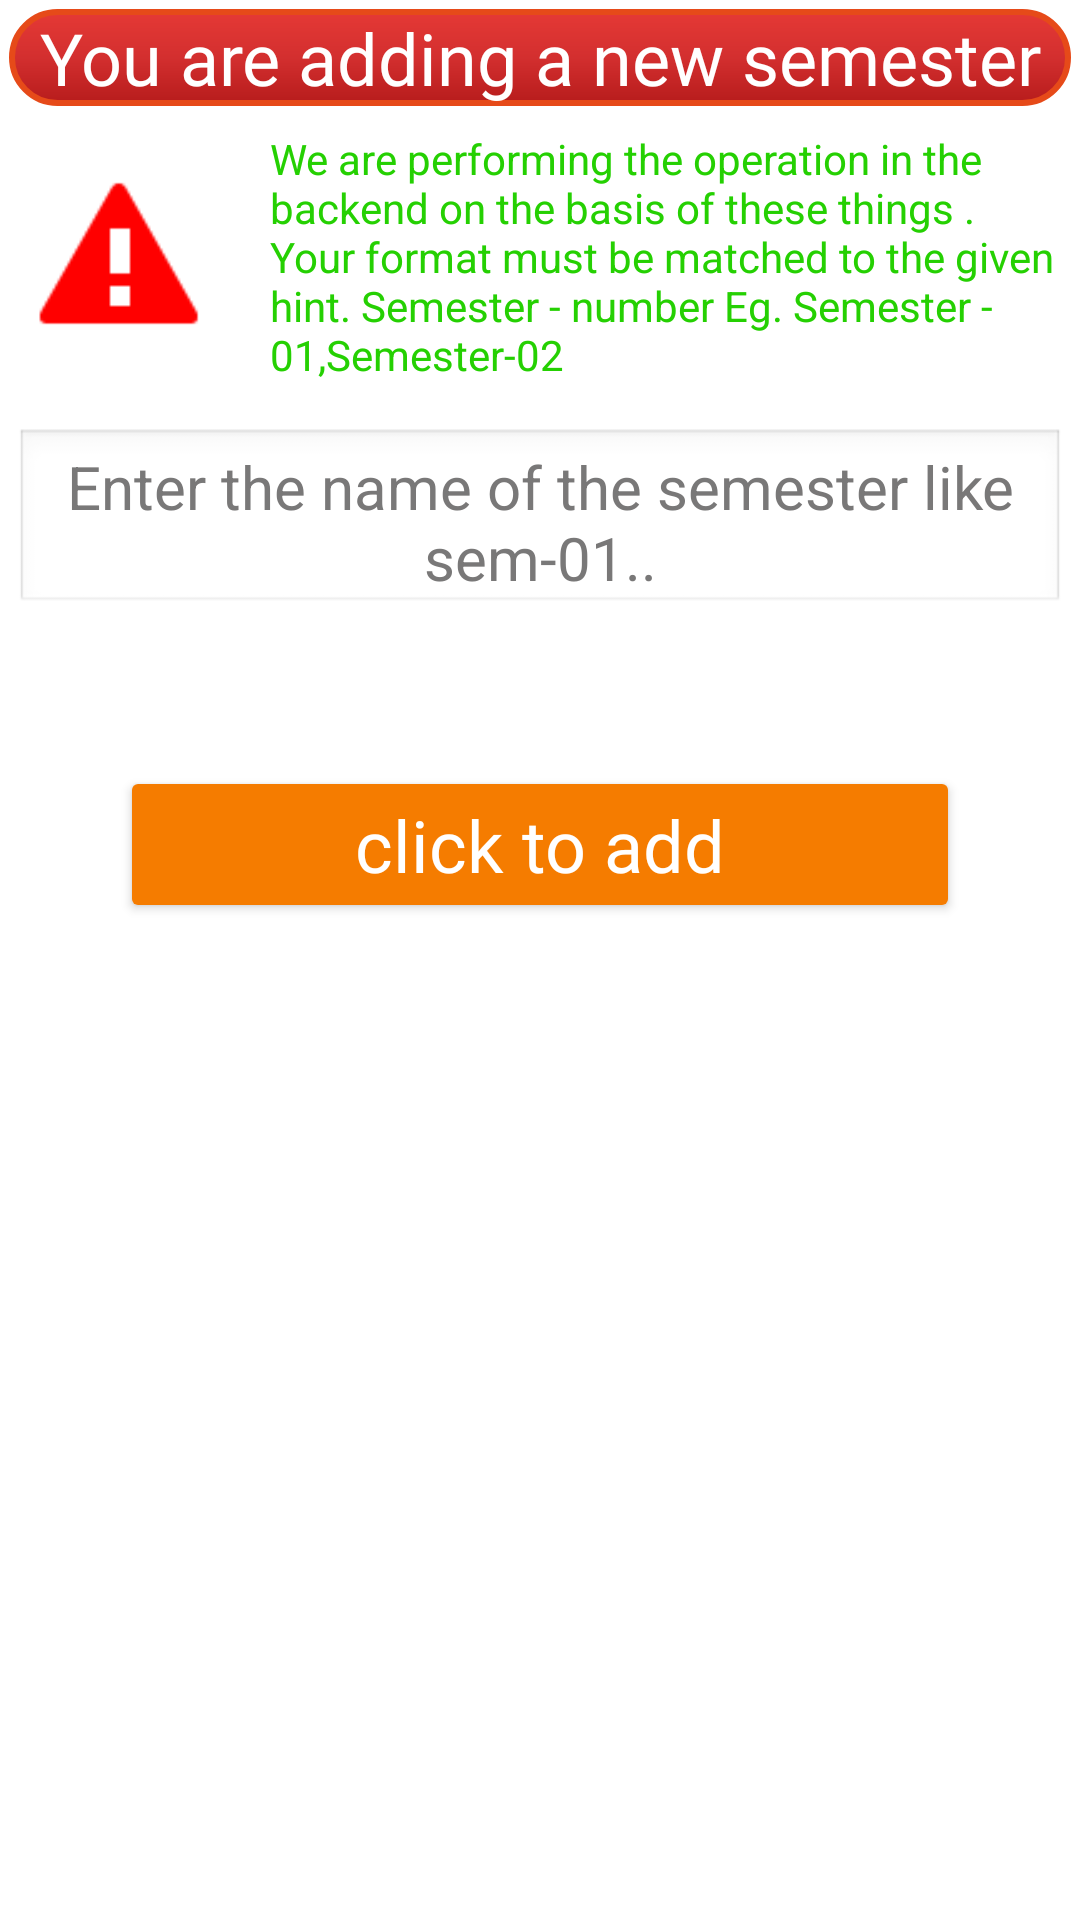

Where to tap for icons on this 1080 × 1920 app screen, as (x=x, y=y):
warning: (x=119, y=253)
